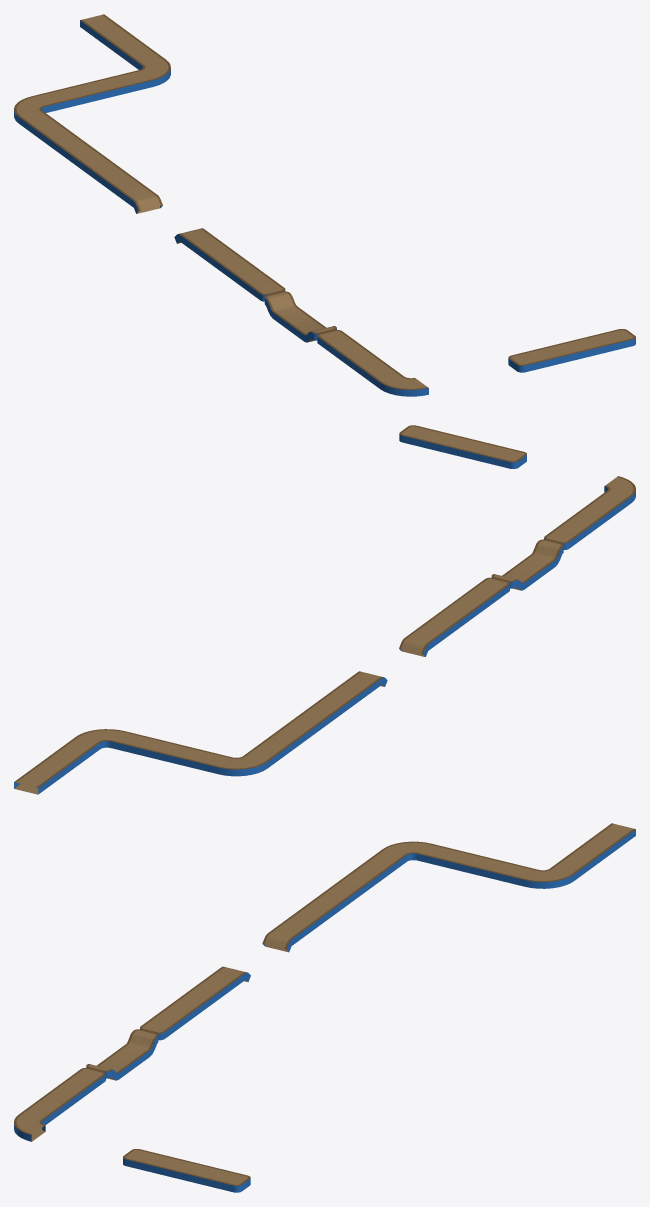
Rendered from ramp_23.FBX.
The picture shows the model from 3 angles, top to bottom: view 1: azimuth 30°, elevation 25°; view 2: azimuth 150°, elevation 25°; view 3: azimuth 330°, elevation 25°; orthographic projection.
Parts seen in each view (by area): view 1: ramp_23; view 2: ramp_23; view 3: ramp_23.
Boxes of the visible parts, x1,y1,x2,y2 form: ramp_23: [14, 14, 635, 396]; ramp_23: [14, 425, 635, 794]; ramp_23: [14, 823, 635, 1192].
Size of the model in its own units: 4450 by 264 by 15003.
